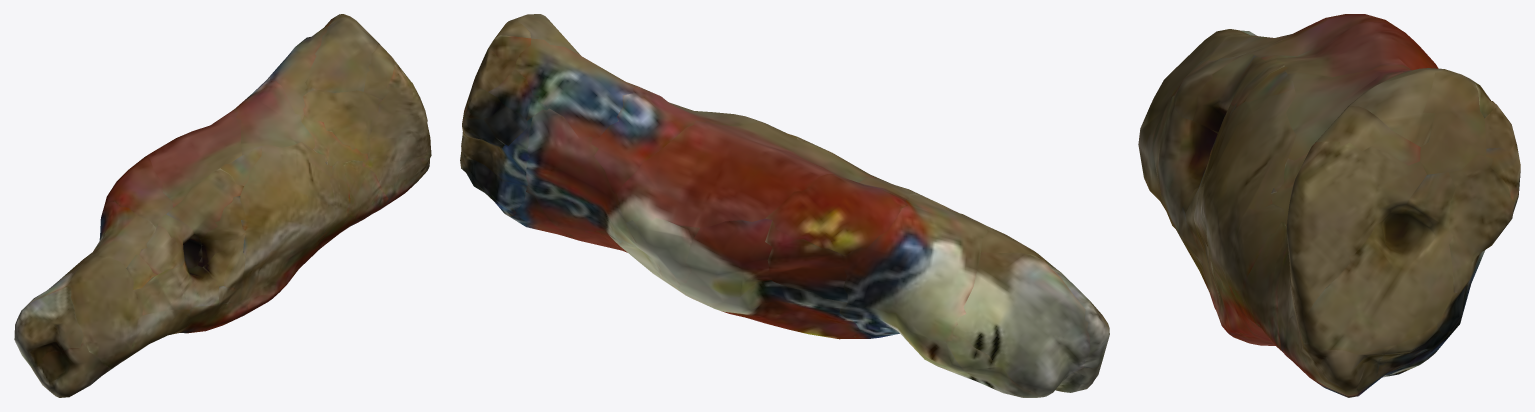
File: hall.glb
3 renders of one model, left to right at view 1: azimuth 30°, elevation 25°; view 2: azimuth 150°, elevation 25°; view 3: azimuth 270°, elevation 25°, orthographic. The views are drawn at different scales.
Size of the model in its own units: 0.7146 by 0.3743 by 0.2918.
1 material, 1 textured.
